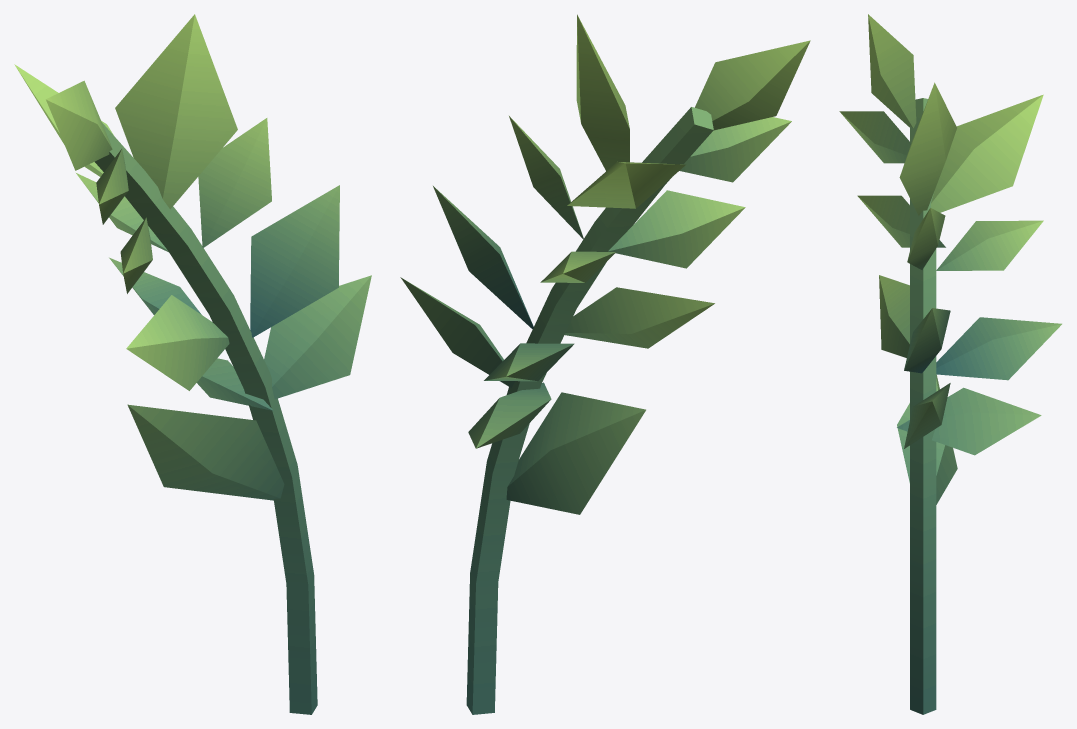
File: PL002_PlantA01.FBX
3 views of the same model, side by side, from view 1: azimuth 30°, elevation 25°; view 2: azimuth 150°, elevation 25°; view 3: azimuth 270°, elevation 25° (orthographic). The views are drawn at different scales.
Parts seen in each view (by area): view 1: PL002_PlantA01; view 2: PL002_PlantA01; view 3: PL002_PlantA01.
Boxes of the visible parts, x1,y1,x2,y2 form: PL002_PlantA01: [14, 14, 371, 714]; PL002_PlantA01: [400, 14, 810, 714]; PL002_PlantA01: [839, 14, 1061, 714].
Bounding box in the file's own units: 157 × 293 × 101.
Materials: 1 (1 with a texture image).
